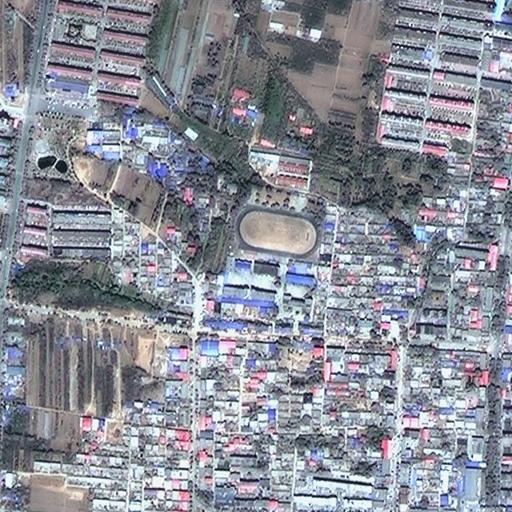school: (218, 202, 327, 300)
